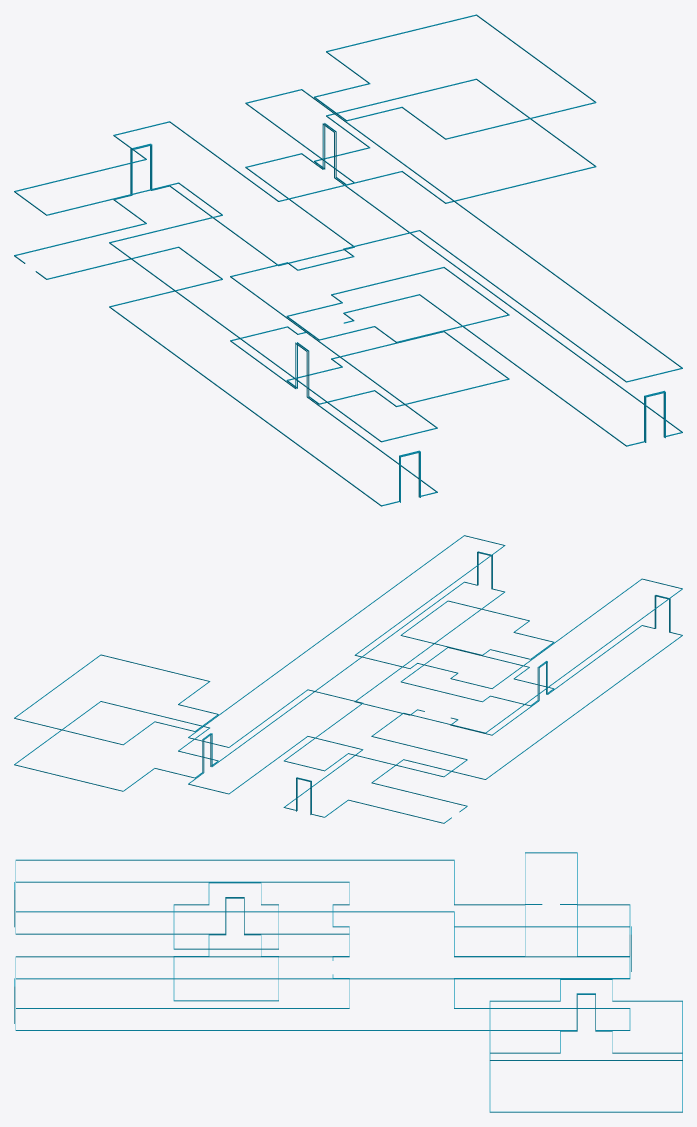
The model's file is floor_one_boards.glb.
3 views of the same model, one above another, from view 1: azimuth 30°, elevation 25°; view 2: azimuth 150°, elevation 25°; view 3: azimuth 270°, elevation 25° (orthographic). The views are drawn at different scales.
Visible parts, largest first — view 1: board; view 2: board; view 3: board.
Part boxes in pixels (x1=…): board: x1=14, y1=14, x2=682, y2=506; board: x1=14, y1=535, x2=682, y2=823; board: x1=14, y1=852, x2=682, y2=1112.
Size of the model in its own units: 28 by 3.3 by 38.09.
1 material, 1 textured.
